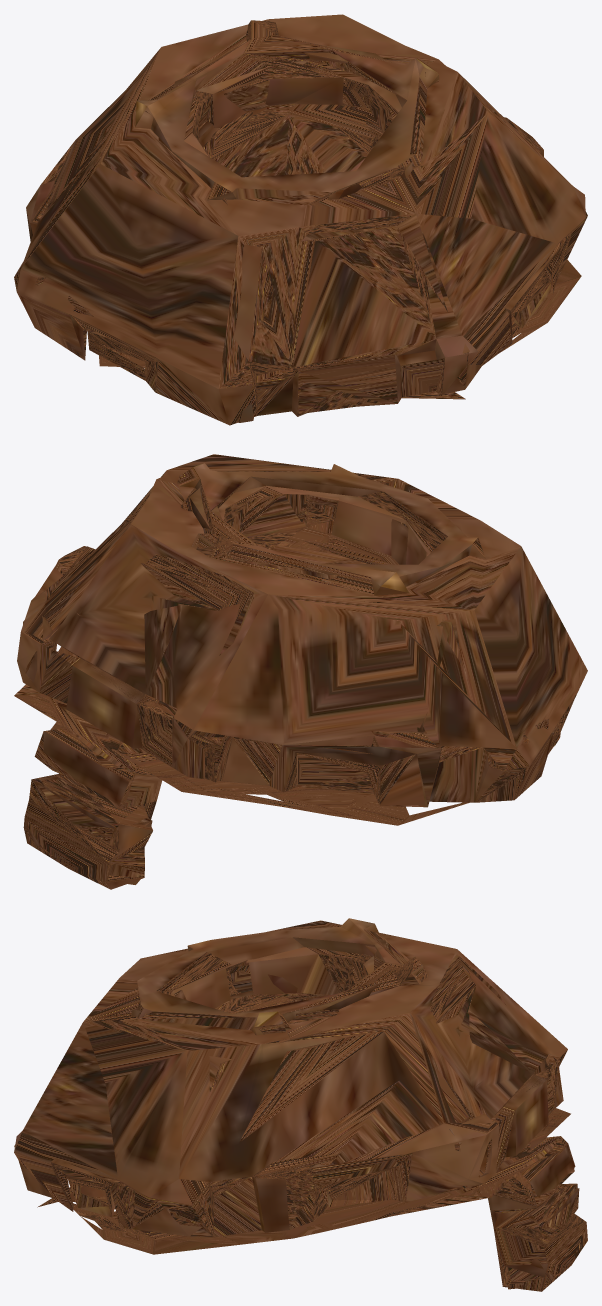
The picture shows the model from 3 angles, top to bottom: view 1: azimuth 30°, elevation 25°; view 2: azimuth 150°, elevation 25°; view 3: azimuth 270°, elevation 25°; orthographic projection. The views are drawn at different scales.
Bounding box in the file's own units: 0.8457 × 0.486 × 0.8763.
Materials: 1 (1 with a texture image).
